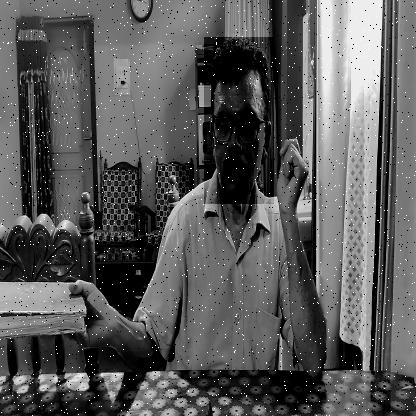Normal: (204, 37, 274, 204)
